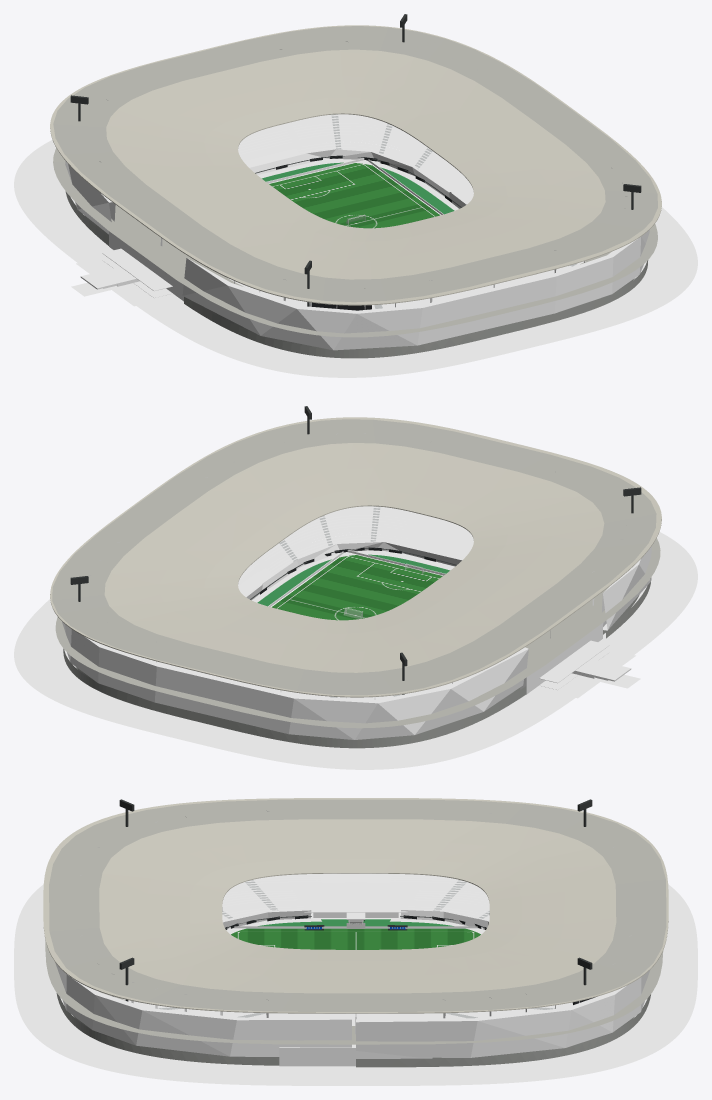
The model's file is dragao.glb.
3 views of the same model, one above another, from view 1: azimuth 30°, elevation 25°; view 2: azimuth 150°, elevation 25°; view 3: azimuth 270°, elevation 25° (orthographic).
Visible parts, largest first — view 1: Oval_Upper_Perimeter_Deck, DragaoRoof_MainShell, Football_Pitch, ConcreteTerrace_SteppedBowl, Oval_Upper_Perimeter_Deck.001, LateralWall_East_Aligned_BelowUpperRing, UnderStadium_MainCeiling_UnderSeats, EntryOpening_ExitHeader_West, Grass_Apron_Right; view 2: Oval_Upper_Perimeter_Deck, DragaoRoof_MainShell, Football_Pitch, Oval_Upper_Perimeter_Deck.001, ConcreteTerrace_SteppedBowl, LateralWall_East_Aligned_BelowUpperRing, UnderStadium_MainCeiling_UnderSeats, EntryOpening_ExitHeader_West, Grass_Apron_Right; view 3: Oval_Upper_Perimeter_Deck, DragaoRoof_MainShell, ConcreteTerrace_SteppedBowl, LateralWall_East_Aligned_BelowUpperRing, Football_Pitch, Oval_Upper_Perimeter_Deck.001, UnderStadium_MainCeiling_UnderSeats, Grass_Apron_Left.
Boxes of the visible parts, x1,y1,x2,y2 form: Oval_Upper_Perimeter_Deck: (14, 26, 697, 377); DragaoRoof_MainShell: (50, 25, 661, 305); Football_Pitch: (269, 163, 439, 228); ConcreteTerrace_SteppedBowl: (238, 114, 578, 309); Oval_Upper_Perimeter_Deck.001: (53, 148, 657, 337); LateralWall_East_Aligned_BelowUpperRing: (65, 191, 648, 358); UnderStadium_MainCeiling_UnderSeats: (102, 248, 172, 291); EntryOpening_ExitHeader_West: (80, 266, 137, 289); Grass_Apron_Right: (380, 167, 454, 214); Oval_Upper_Perimeter_Deck: (14, 419, 697, 769); DragaoRoof_MainShell: (50, 417, 661, 697); Football_Pitch: (272, 555, 442, 620); Oval_Upper_Perimeter_Deck.001: (55, 538, 660, 728); ConcreteTerrace_SteppedBowl: (140, 506, 473, 699); LateralWall_East_Aligned_BelowUpperRing: (63, 577, 651, 748); UnderStadium_MainCeiling_UnderSeats: (539, 640, 609, 683); EntryOpening_ExitHeader_West: (574, 658, 631, 681); Grass_Apron_Right: (257, 559, 331, 606); Oval_Upper_Perimeter_Deck: (14, 799, 697, 1085); DragaoRoof_MainShell: (43, 798, 668, 1013); ConcreteTerrace_SteppedBowl: (133, 874, 572, 1018); LateralWall_East_Aligned_BelowUpperRing: (56, 993, 650, 1067); Football_Pitch: (231, 929, 480, 949); Oval_Upper_Perimeter_Deck.001: (45, 940, 663, 1044); UnderStadium_MainCeiling_UnderSeats: (304, 882, 407, 912); Grass_Apron_Left: (246, 919, 465, 928).
Bounding box in the file's own units: 271 × 40.76 × 304.
25 materials, 1 textured.
